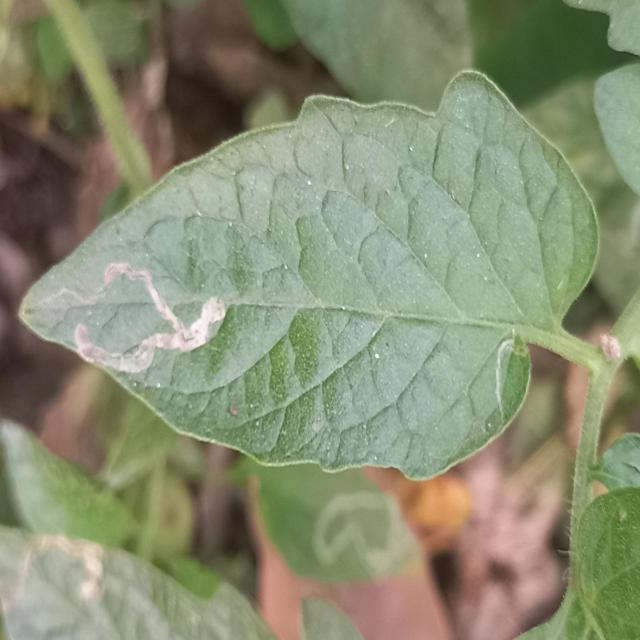Tuta absoluta: (66, 252, 230, 401)
